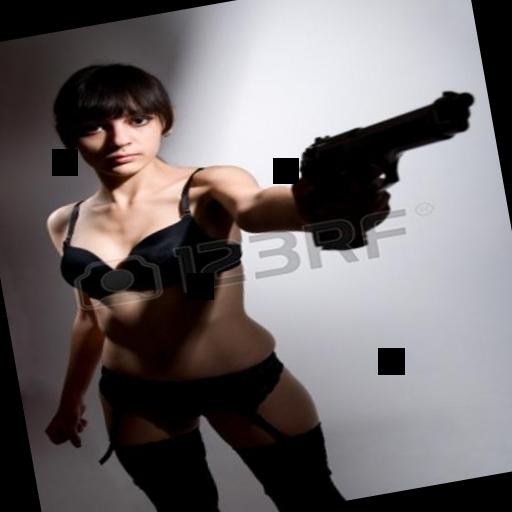Handgun: (281, 84, 495, 256)
